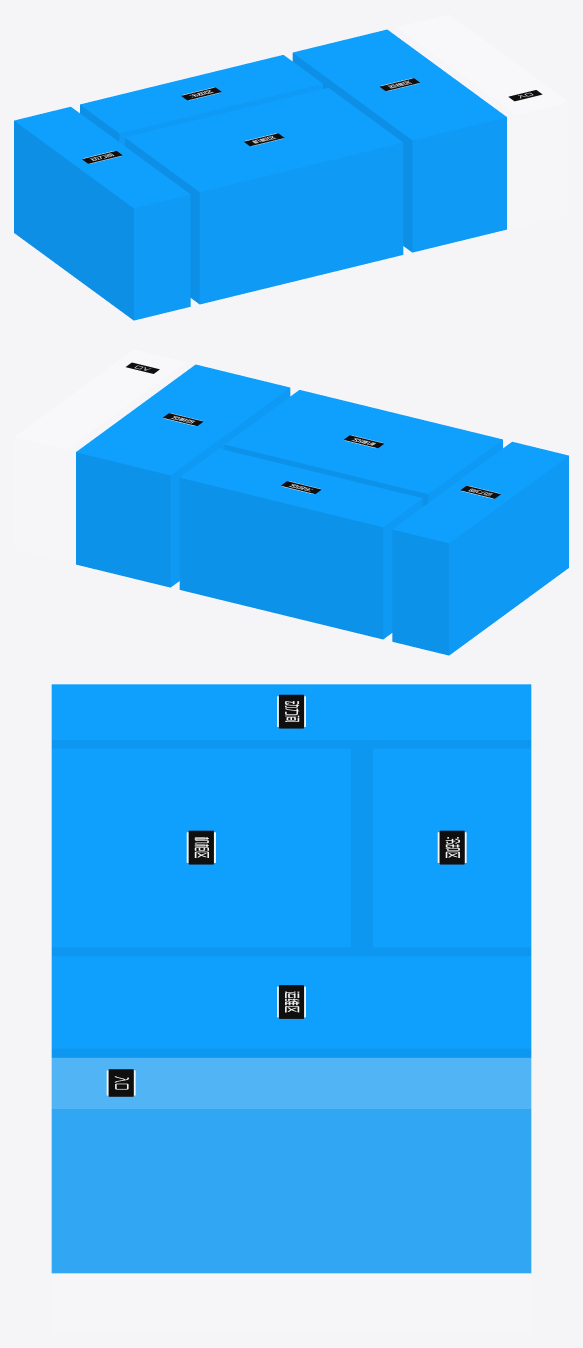
The model's file is dgjg_0517_z.gltf.
3 renders of one model, top to bottom at view 1: azimuth 30°, elevation 25°; view 2: azimuth 150°, elevation 25°; view 3: azimuth 270°, elevation 25°, orthographic. The views are drawn at different scales.
Parts seen in each view (by area): view 1: jgq_001, dlj_001, jgq_002, bgq_001, bgq_002, lqq_002, dlj_002, lqq_001; view 2: lqq_001, dlj_001, jgq_002, bgq_001, bgq_002, lqq_002, dlj_002, jgq_001; view 3: bgq_001, jgq_002, bgq_002, lqq_002, dlj_002, dlj_001, jgq_001, lqq_001, Jf_Jg_fqpz_002, Jf_Jg_fqpz_003, Jf_Jg_fqpz_001, Jf_Jg_fqpz_004 (+1 smaller).
Boxes of the visible parts, <box> form: jgq_001: <box>125,137,403,304</box>; dlj_001: <box>14,121,190,320</box>; jgq_002: <box>125,88,402,191</box>; bgq_001: <box>292,53,506,252</box>; bgq_002: <box>293,29,506,140</box>; lqq_002: <box>80,55,322,133</box>; dlj_002: <box>14,106,190,207</box>; lqq_001: <box>80,84,322,145</box>; lqq_001: <box>179,477,422,639</box>; dlj_001: <box>392,456,568,655</box>; jgq_002: <box>225,390,502,493</box>; bgq_001: <box>76,388,290,587</box>; bgq_002: <box>76,364,289,475</box>; lqq_002: <box>180,448,422,526</box>; dlj_002: <box>392,441,568,542</box>; jgq_001: <box>224,440,502,506</box>; bgq_001: <box>51,1048,531,1273</box>; jgq_002: <box>51,748,350,947</box>; bgq_002: <box>51,956,531,1048</box>; lqq_002: <box>373,748,531,947</box>; dlj_002: <box>51,684,531,739</box>; dlj_001: <box>51,739,531,956</box>; jgq_001: <box>51,947,350,956</box>; lqq_001: <box>373,947,531,956</box>; Jf_Jg_fqpz_002: <box>437,830,466,864</box>; Jf_Jg_fqpz_003: <box>186,830,215,864</box>; Jf_Jg_fqpz_001: <box>277,694,305,728</box>; Jf_Jg_fqpz_004: <box>277,985,305,1018</box>.
Bounding box in the file's own units: 0.2406 × 0.0595 × 0.1148.
Materials: 7 (5 with a texture image).
